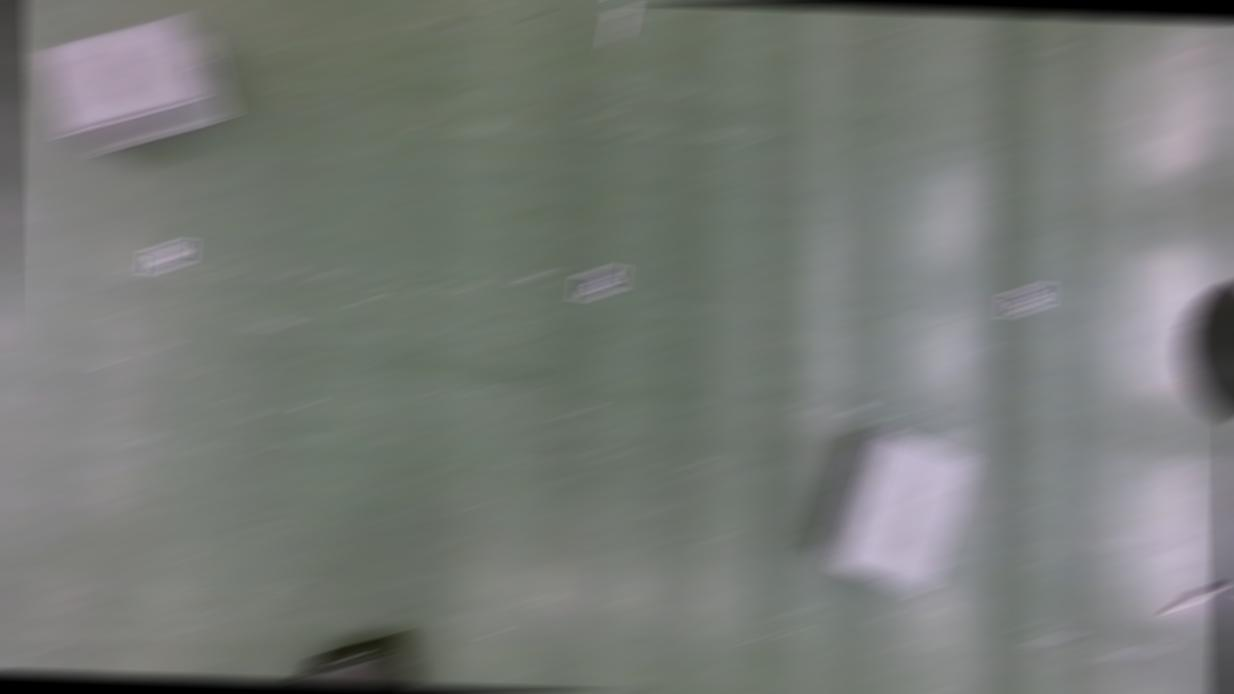probes: (1168, 583, 1224, 611), (608, 6, 632, 46)
rako: (34, 10, 240, 161), (813, 430, 976, 596), (284, 632, 425, 686)
